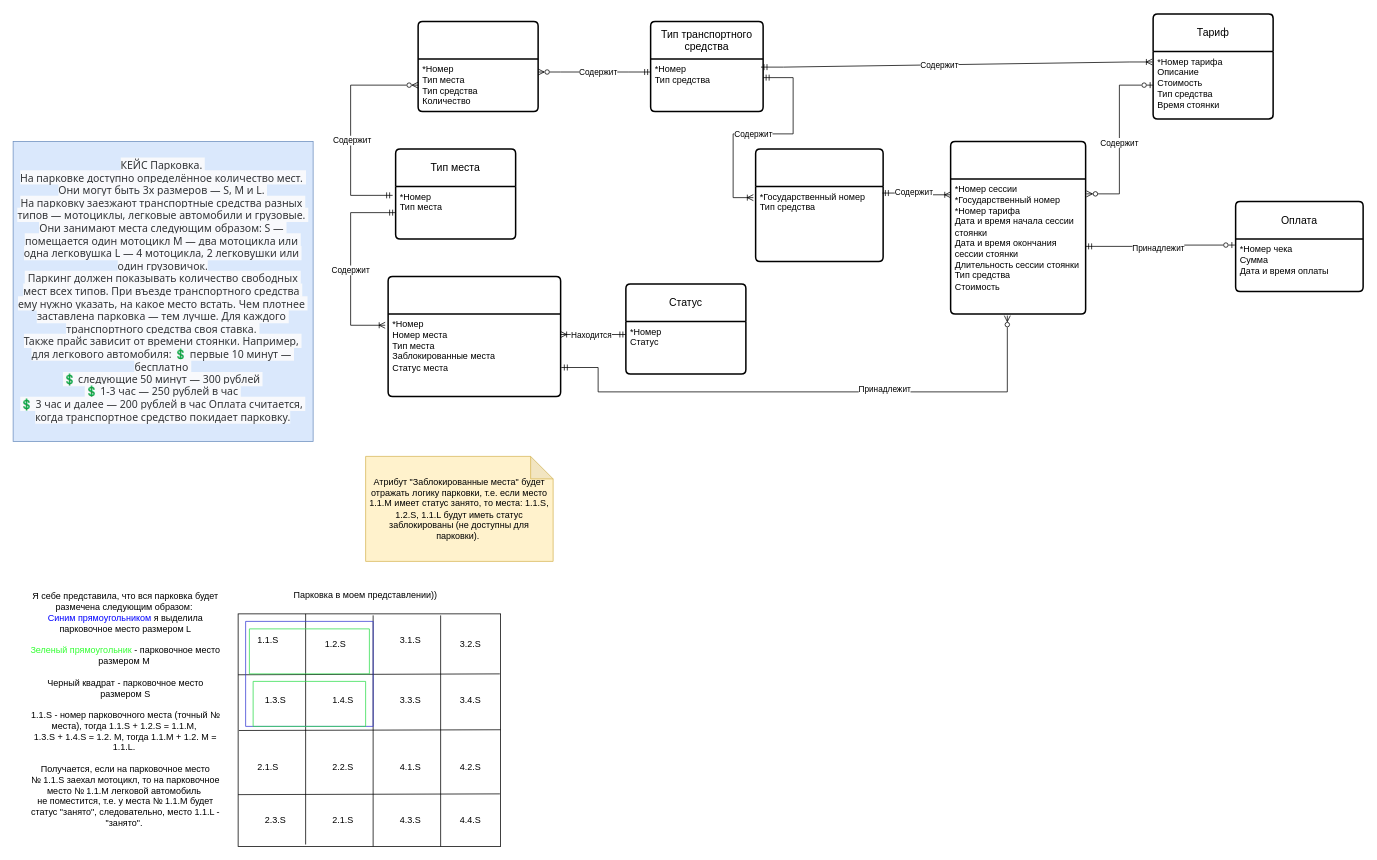
Some shapes in this 1377 by 860 pixel diagram are drawn without their labels. The box of each missing label's shape, as (x1, y1, x2, y2) in pixels:
Вместимость места: (417, 20, 538, 112)
Парковочное место: (387, 275, 561, 397)
Сессия стоянки: (950, 140, 1086, 314)
Транспортное средство: (754, 148, 884, 262)
